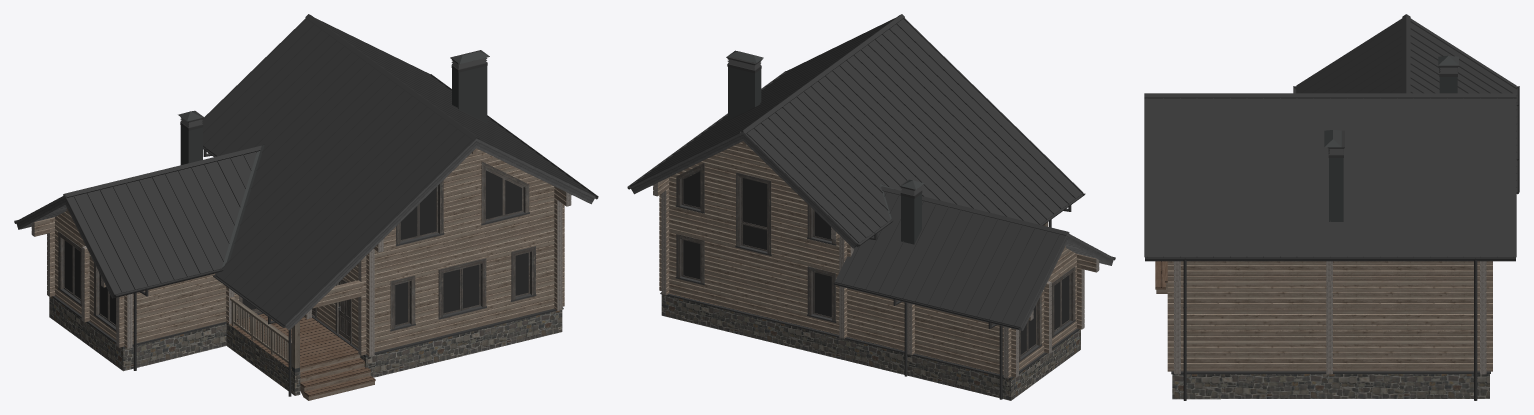
The model's file is log-cabin.glb.
3 renders of one model, left to right at view 1: azimuth 30°, elevation 25°; view 2: azimuth 150°, elevation 25°; view 3: azimuth 270°, elevation 25°, orthographic. The views are drawn at different scales.
Visible parts, largest first — view 1: object 16, object 2, object 8, object 11, object 17, object 12, _1__1_0, object 18, object 5, object 3, object 6, object 14; view 2: object 16, object 2, object 8, object 17, object 11, object 12, _1__1_0, object 18, object 14; view 3: object 16, object 2, object 8, object 18, _1__1_0, object 12, object 6.
Part boxes in pixels (x1=…): object 16: x1=14, y1=14, x2=598, y2=396; object 2: x1=34, y1=148, x2=566, y2=400; object 8: x1=49, y1=296, x2=562, y2=395; object 11: x1=58, y1=161, x2=535, y2=343; object 17: x1=64, y1=170, x2=528, y2=324; object 12: x1=16, y1=138, x2=595, y2=330; _1__1_0: x1=178, y1=51, x2=489, y2=372; object 18: x1=31, y1=192, x2=571, y2=356; object 5: x1=229, y1=312, x2=354, y2=369; object 3: x1=231, y1=298, x2=299, y2=368; object 6: x1=300, y1=349, x2=375, y2=397; object 14: x1=58, y1=211, x2=536, y2=331; object 16: x1=627, y1=14, x2=1115, y2=399; object 2: x1=658, y1=141, x2=1096, y2=378; object 8: x1=661, y1=293, x2=1080, y2=400; object 17: x1=683, y1=171, x2=1069, y2=354; object 11: x1=676, y1=162, x2=1075, y2=360; object 12: x1=630, y1=132, x2=1113, y2=330; _1__1_0: x1=728, y1=50, x2=924, y2=244; object 18: x1=653, y1=183, x2=1099, y2=378; object 14: x1=675, y1=204, x2=1075, y2=361; object 16: x1=1144, y1=14, x2=1519, y2=400; object 2: x1=1156, y1=261, x2=1492, y2=371; object 8: x1=1172, y1=374, x2=1489, y2=399; object 18: x1=1174, y1=261, x2=1486, y2=374; _1__1_0: x1=1324, y1=55, x2=1458, y2=221; object 12: x1=1145, y1=256, x2=1515, y2=261; object 6: x1=1155, y1=261, x2=1167, y2=289.
Size of the model in its own units: 16.26 by 8.59 by 11.48.
Materials: 18 (11 with a texture image).
